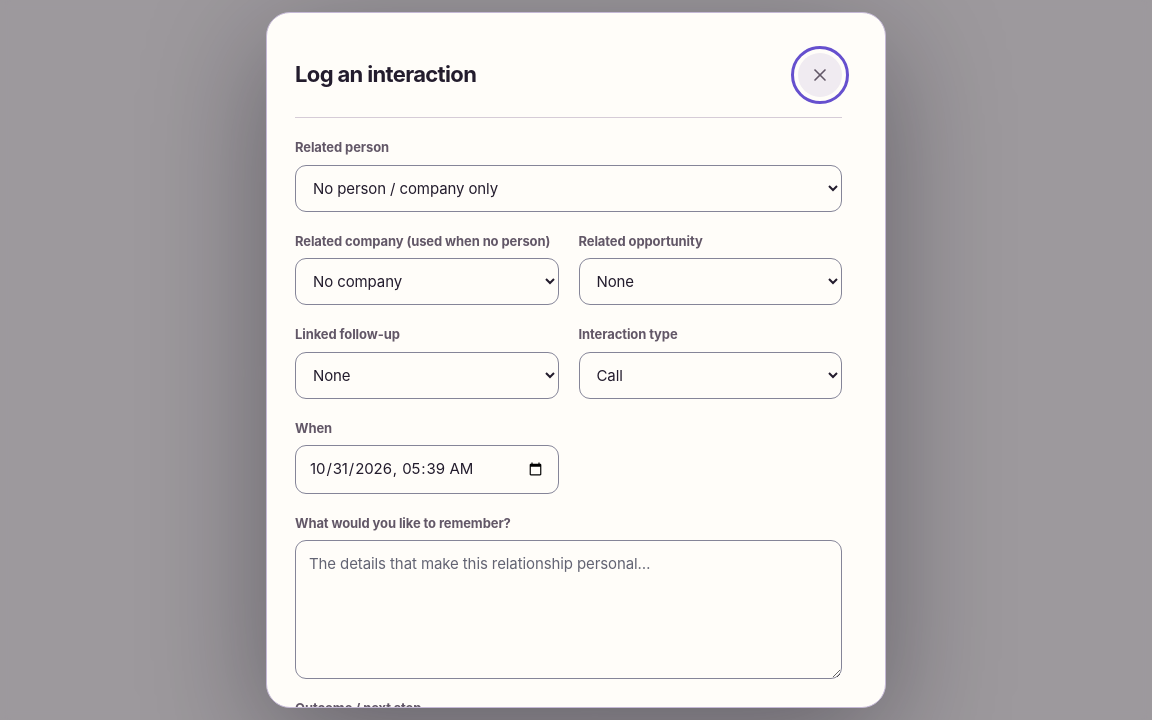
Scenario: does not start the follow-up if the interaction could not be saved
This screenshot has width=1152, height=720.
Type "Discussed the next step" into the text box labelled "What would you like to remember?". click: (568, 609)
box: [295, 540, 842, 678]
(page scrolled)
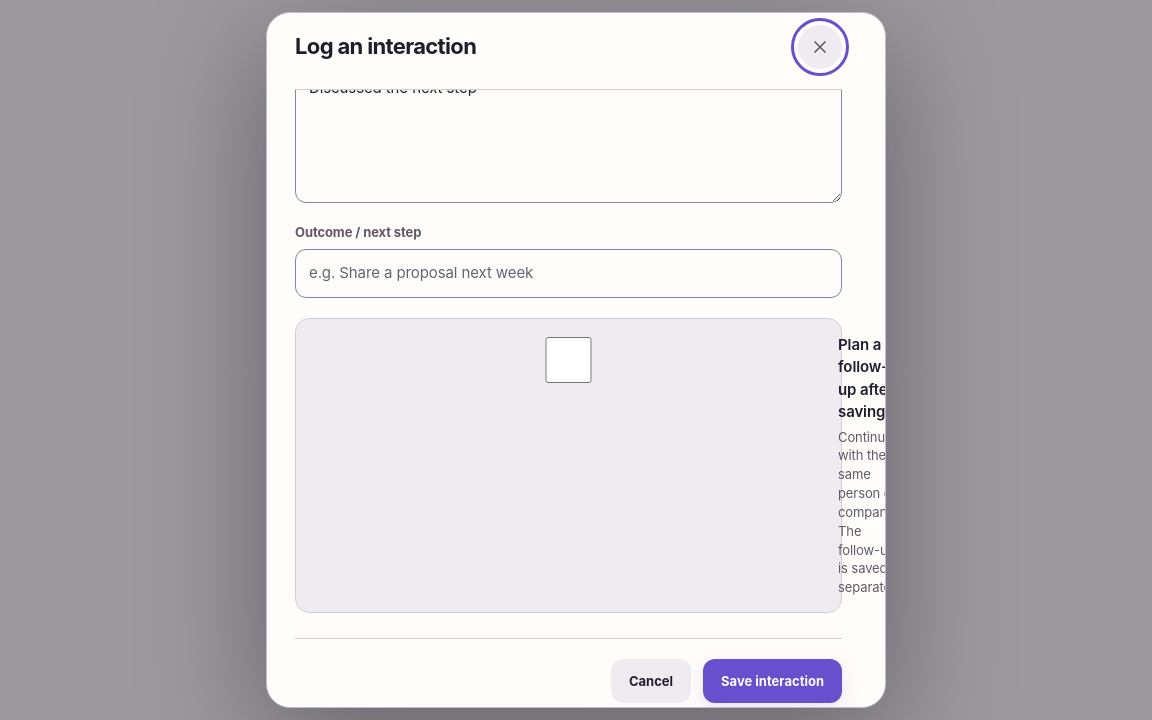
Click the checkbox labelled "Plan a follow-up after saving". click: (568, 360)
box: [311, 336, 826, 382]
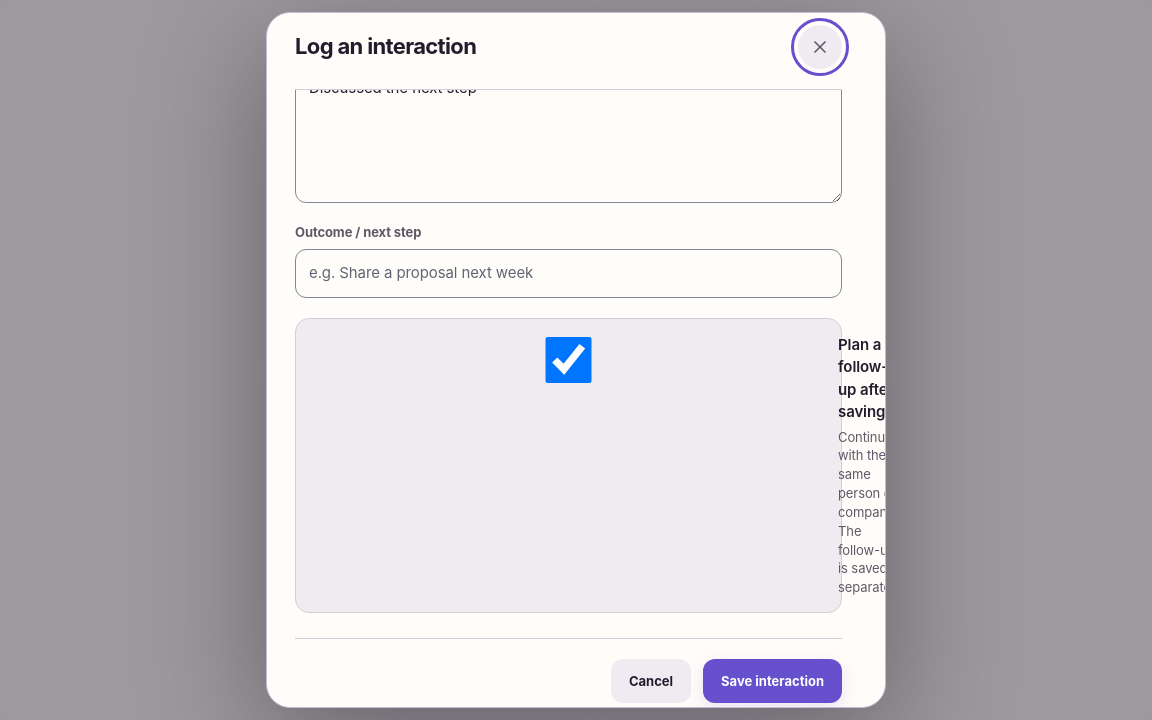
Click the button "Save interaction". click: (773, 681)
box: [703, 659, 842, 703]
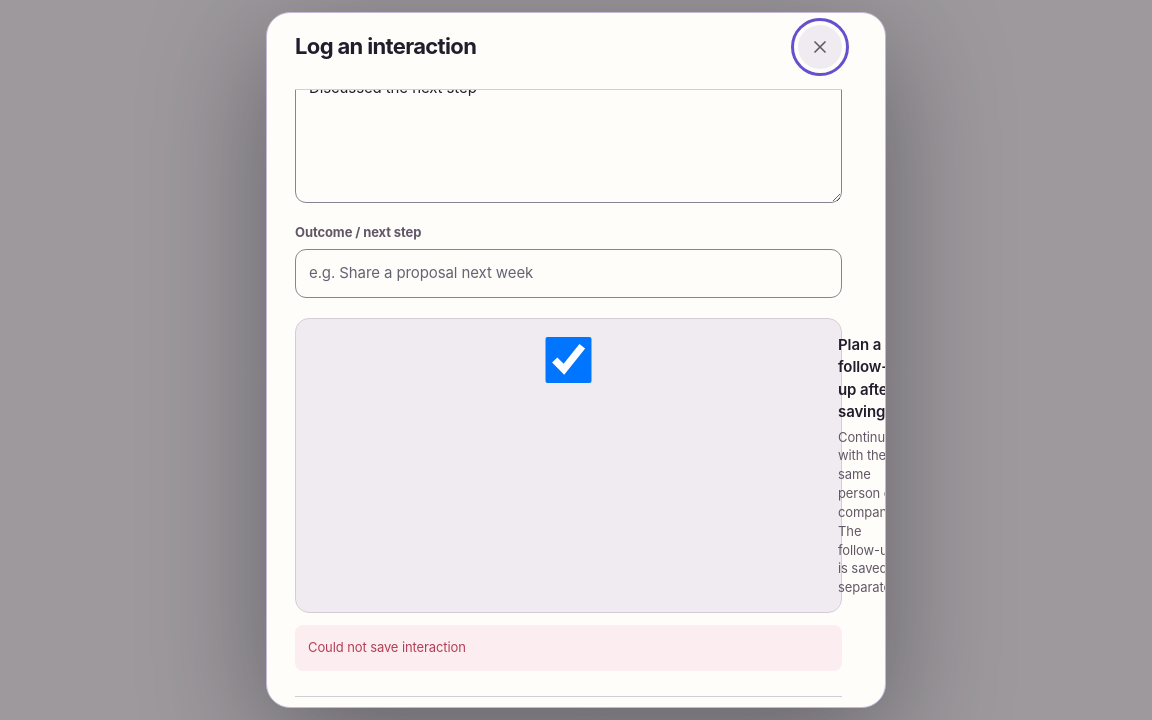
Check: the message reads "Could not save interaction", box [308, 639, 466, 655]
